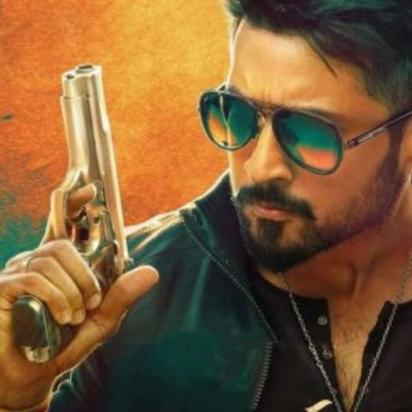Gun: (10, 58, 140, 368)
